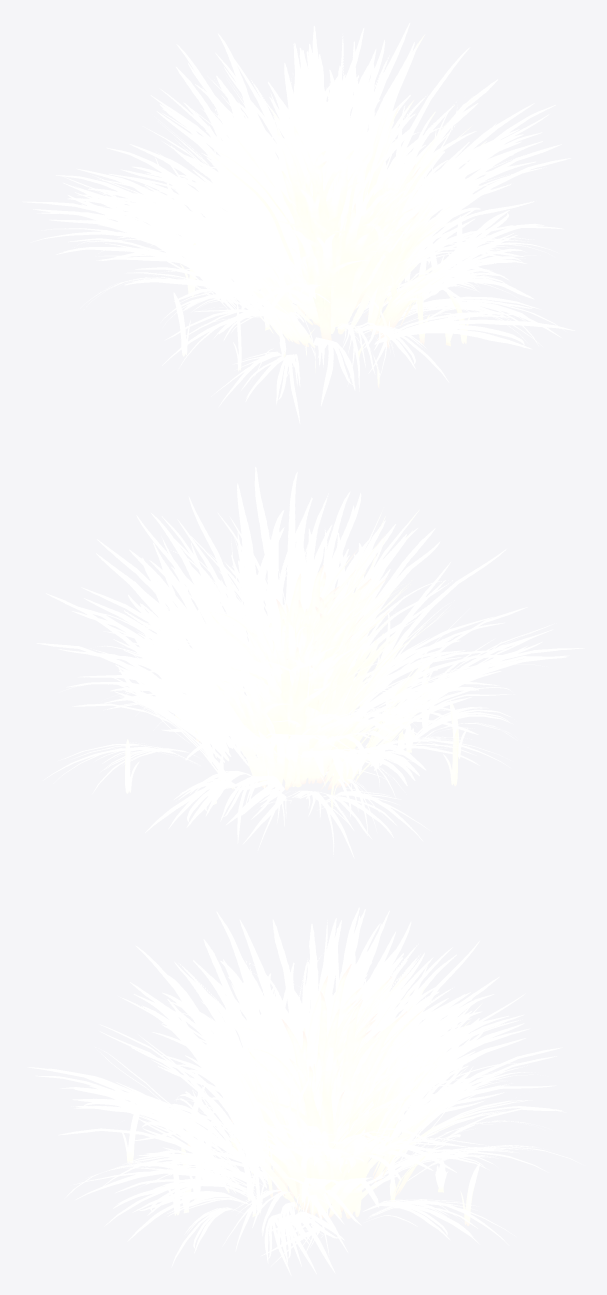
The picture shows the model from 3 angles, top to bottom: view 1: azimuth 30°, elevation 25°; view 2: azimuth 150°, elevation 25°; view 3: azimuth 270°, elevation 25°; orthographic projection. The views are drawn at different scales.
Visible parts, largest first — view 1: SM_Sedge_01_LOD0; view 2: SM_Sedge_01_LOD0; view 3: SM_Sedge_01_LOD0.
Boxes of the visible parts, x1=… form: SM_Sedge_01_LOD0: x1=22, y1=23, x2=574, y2=423; SM_Sedge_01_LOD0: x1=36, y1=467, x2=584, y2=858; SM_Sedge_01_LOD0: x1=27, y1=907, x2=581, y2=1275.
Size of the model in its own units: 1.15 by 0.6318 by 1.2.
1 material, 1 textured.
